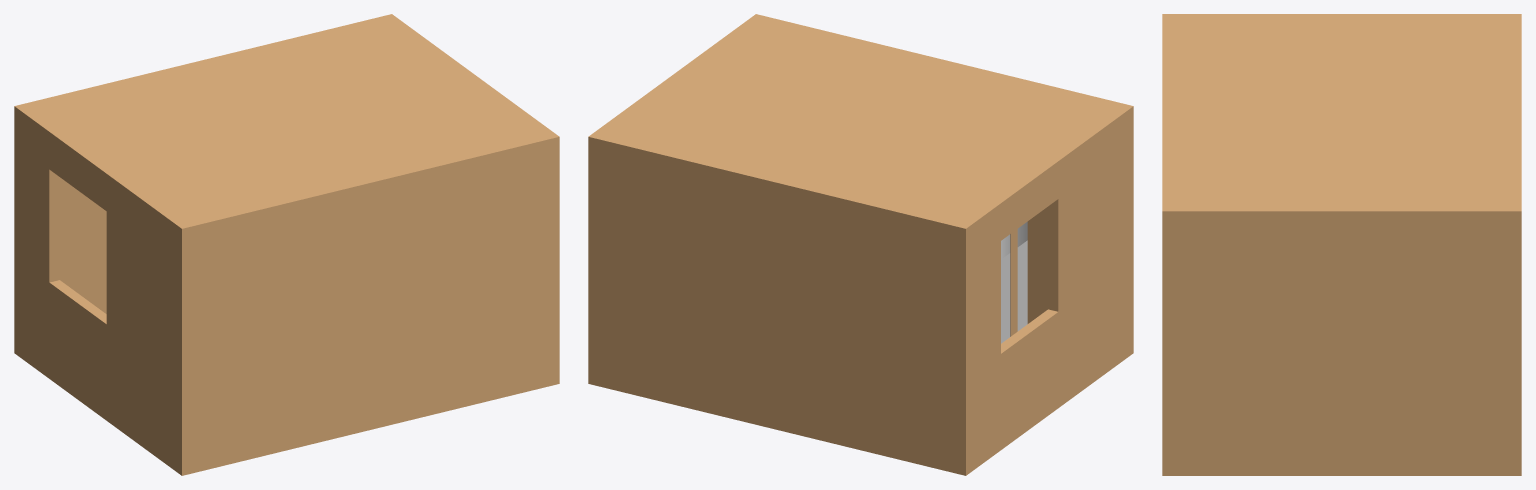
File: S_CouloirU.glb
The picture shows the model from 3 angles, left to right: view 1: azimuth 30°, elevation 25°; view 2: azimuth 150°, elevation 25°; view 3: azimuth 270°, elevation 25°; orthographic projection. The views are drawn at different scales.
Parts seen in each view (by area): view 1: murAvecFenetre, Plane.005; view 2: murAvecFenetre, Plane.005, Cube.004, Plane.009, Plane.008; view 3: murAvecFenetre, Plane.005.
Part boxes in pixels (left/top/right/bottom): murAvecFenetre: left=14, top=14, right=559, bottom=475; Plane.005: left=31, top=21, right=542, bottom=221; murAvecFenetre: left=588, top=14, right=1133, bottom=475; Plane.005: left=605, top=21, right=1116, bottom=221; Cube.004: left=1001, top=221, right=1027, bottom=343; Plane.009: left=965, top=81, right=1017, bottom=333; Plane.008: left=975, top=95, right=1013, bottom=336; murAvecFenetre: left=1162, top=14, right=1521, bottom=475; Plane.005: left=1176, top=19, right=1507, bottom=205.
Bounding box in the file's own units: 4.23 × 2.65 × 3.25.
